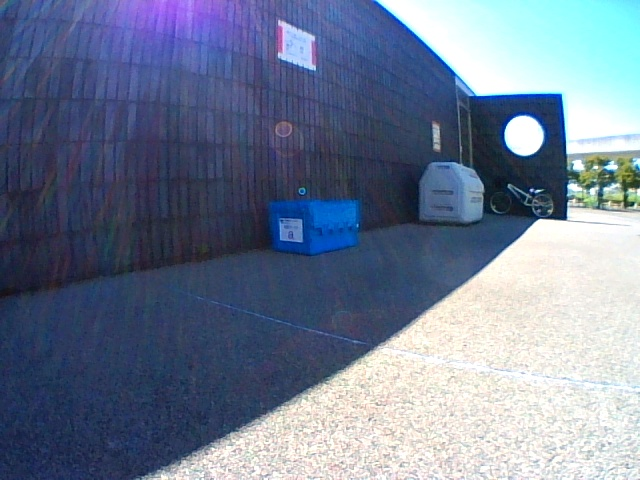blue_box: (268, 200, 359, 255)
tag_a: (281, 221, 302, 240)
